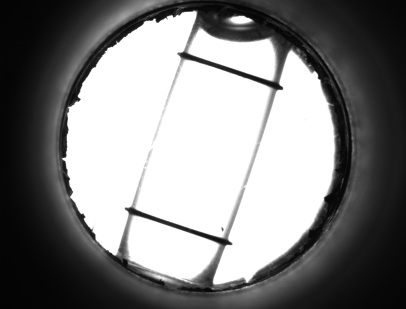line: (139, 206, 210, 243), (193, 54, 265, 88)
